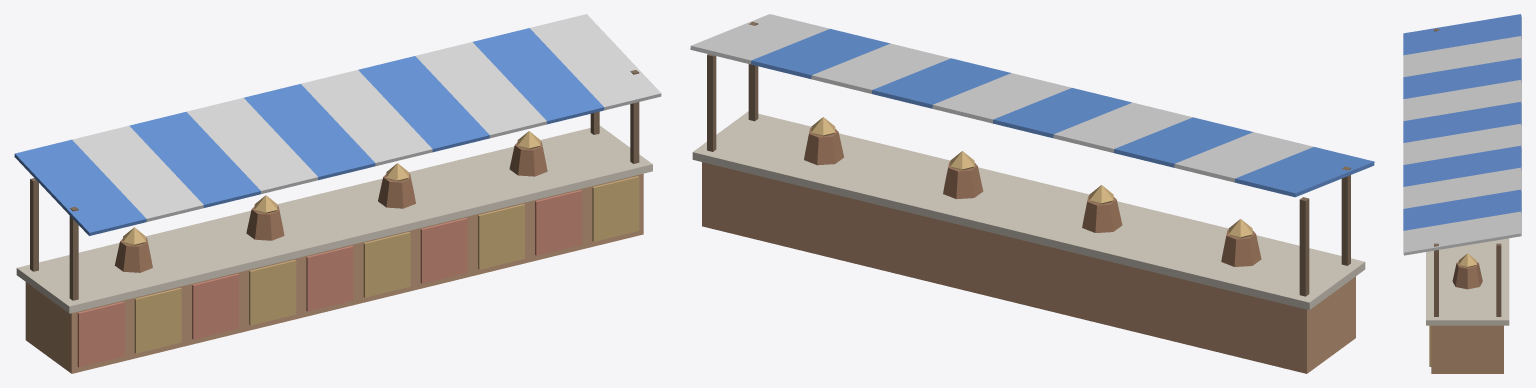
The model's file is market_counter.glb.
3 renders of one model, left to right at view 1: azimuth 30°, elevation 25°; view 2: azimuth 150°, elevation 25°; view 3: azimuth 270°, elevation 25°, orthographic. The views are drawn at different scales.
Bounding box in the file's own units: 10.2 × 2.99 × 2.27.
